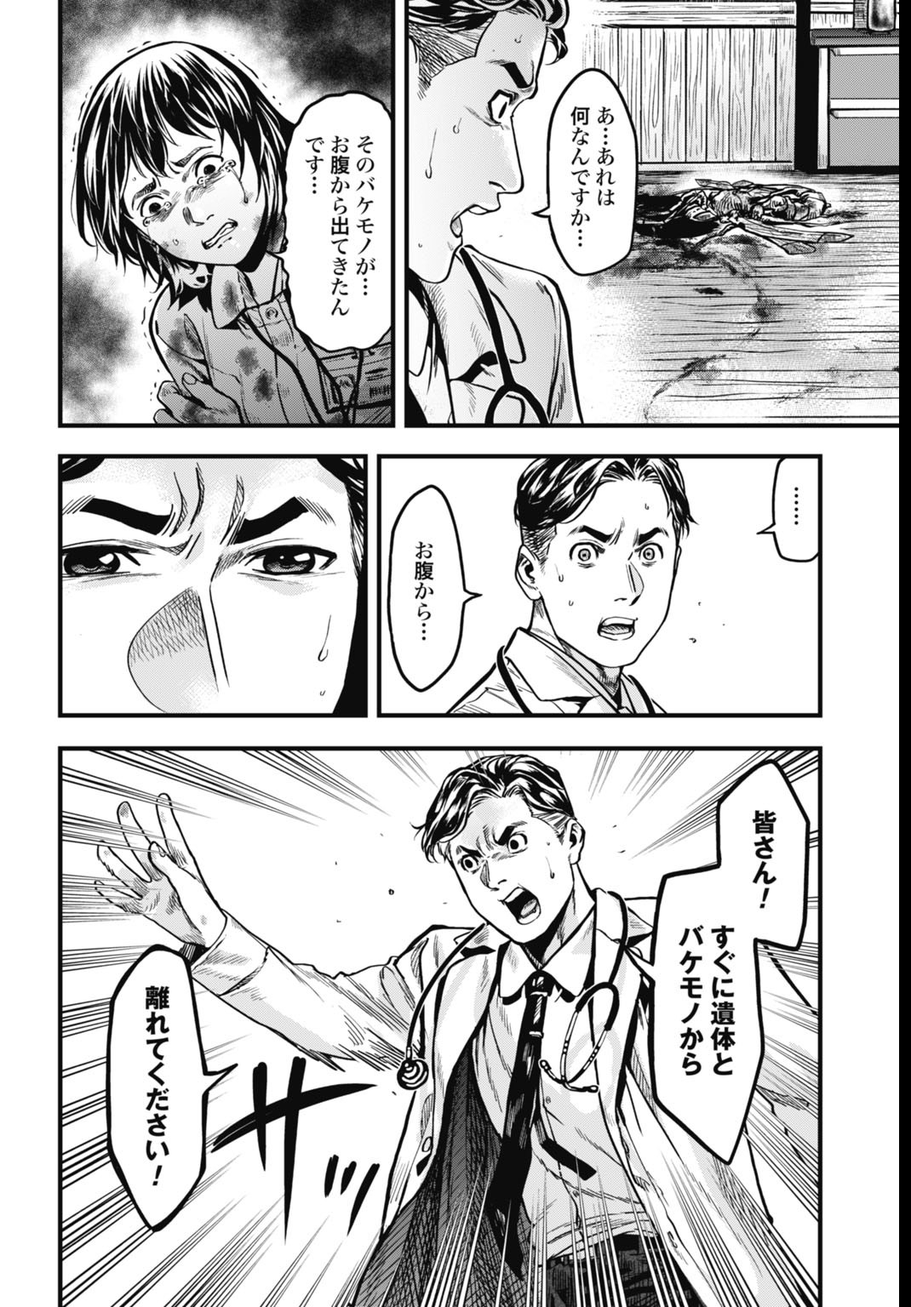bubbles: (616, 756, 813, 1172), (96, 941, 226, 1239), (279, 87, 392, 357), (386, 482, 485, 693), (548, 60, 641, 281), (756, 454, 821, 574)
